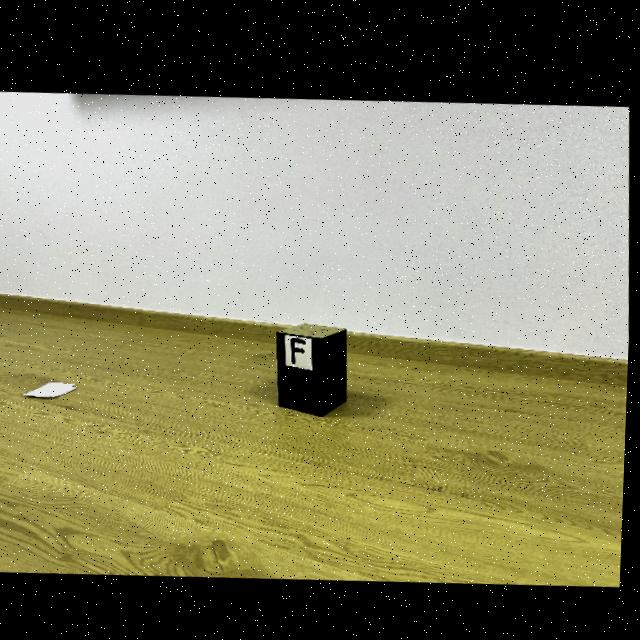F: (293, 333, 308, 359)
